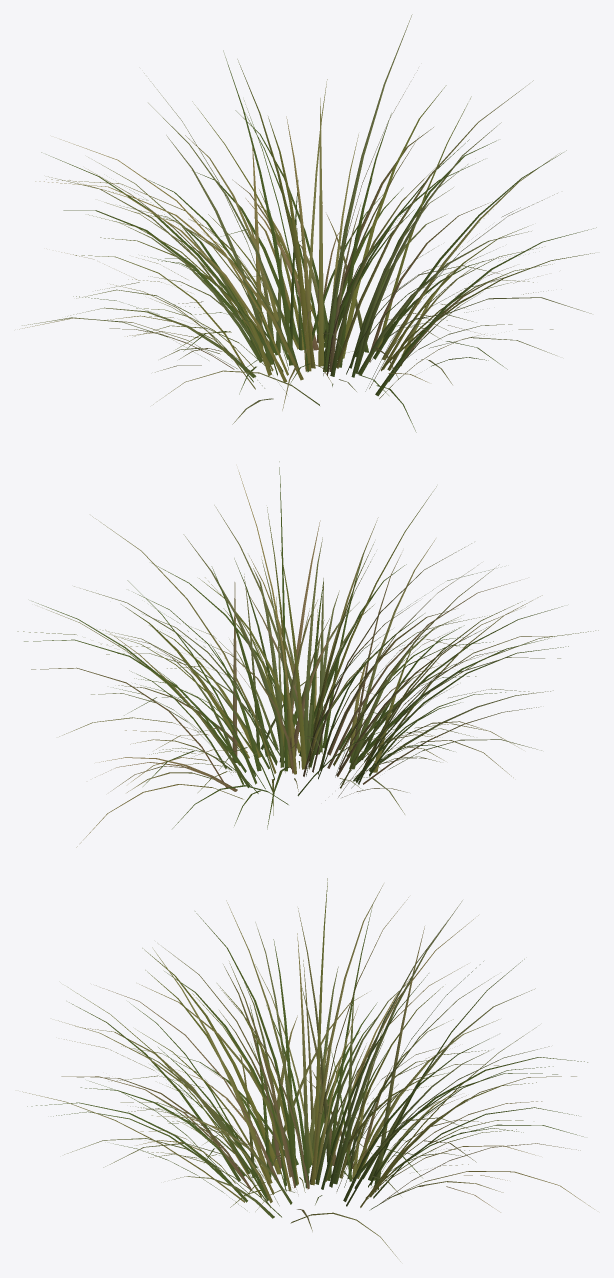
File: tuft_b.glb
3 renders of one model, top to bottom at view 1: azimuth 30°, elevation 25°; view 2: azimuth 150°, elevation 25°; view 3: azimuth 270°, elevation 25°, orthographic. The views are drawn at different scales.
Visible parts, largest first — view 1: tuft_b; view 2: tuft_b; view 3: tuft_b.
Part boxes in pixels (left/top/right/bottom): tuft_b: left=19, top=14, right=596, bottom=432; tuft_b: left=17, top=461, right=598, bottom=847; tuft_b: left=22, top=878, right=594, bottom=1261.
Size of the model in its own units: 0.5226 by 0.2854 by 0.5209.
